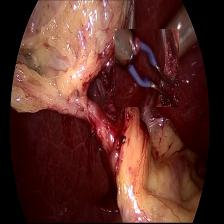Bipolar: (115, 29, 179, 107)
